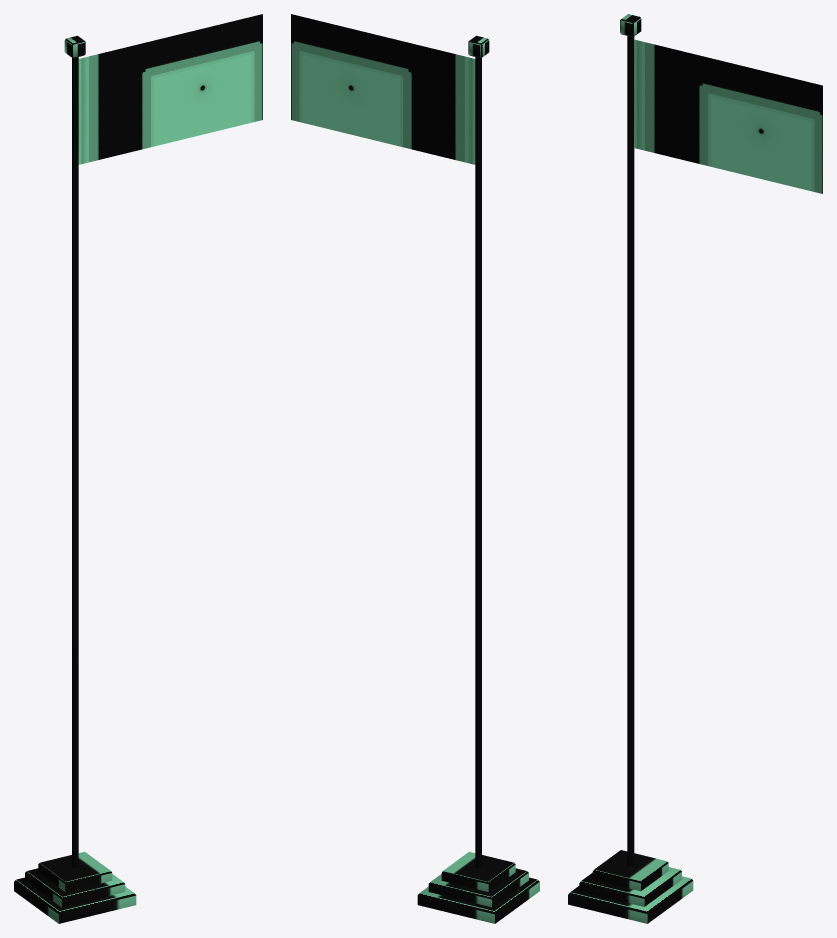
File: Flag_ES.fbx
3 views of the same model, side by side, from view 1: azimuth 30°, elevation 25°; view 2: azimuth 150°, elevation 25°; view 3: azimuth 330°, elevation 25° (orthographic). The views are drawn at different scales.
Parts seen in each view (by area): view 1: Flag_ES; view 2: Flag_ES; view 3: Flag_ES.
Part boxes in pixels (<box>): Flag_ES: <box>14,14,262,923</box>; Flag_ES: <box>291,14,539,923</box>; Flag_ES: <box>568,14,822,923</box>.
Bounding box in the file's own units: 195 × 707 × 66.85.
